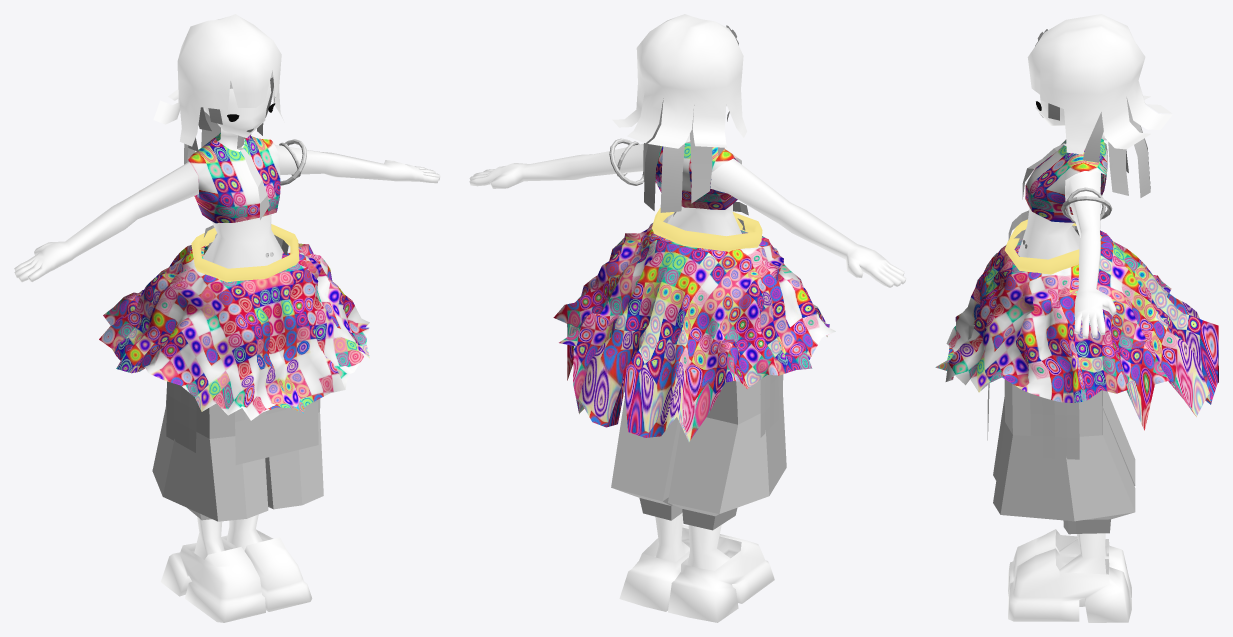
The model's file is character_template_4.glb.
3 renders of one model, left to right at view 1: azimuth 30°, elevation 25°; view 2: azimuth 150°, elevation 25°; view 3: azimuth 270°, elevation 25°, orthographic. The views are drawn at different scales.
Visible parts, largest first — view 1: Fabric.001, Body.001, Pants.001, HairOuter.002, Shoes.003, InnerCloth.001, Fabric.002, Belt.001, Fabric/003, HairInner.001, Tie; view 2: Fabric.001, Pants.001, Body.001, HairOuter.002, Shoes.003, HairInner.001, Belt.001, InnerCloth.001, Fabric/003; view 3: Fabric.001, Pants.001, HairOuter.002, Shoes.003, Body.001, InnerCloth.001, Fabric/003, HairInner.001, Belt.001.
Boxes of the visible parts, x1=… form: Fabric.001: x1=99, y1=243, x2=369, y2=420; Body.001: x1=14, y1=81, x2=440, y2=559; Pants.001: x1=152, y1=388, x2=323, y2=521; HairOuter.002: x1=153, y1=14, x2=284, y2=146; Shoes.003: x1=161, y1=529, x2=312, y2=622; InnerCloth.001: x1=188, y1=133, x2=280, y2=223; Fabric.002: x1=235, y1=400, x2=318, y2=464; Belt.001: x1=191, y1=224, x2=299, y2=282; Fabric/003: x1=166, y1=381, x2=196, y2=452; HairInner.001: x1=184, y1=70, x2=275, y2=164; Tie: x1=237, y1=135, x2=269, y2=219; Fabric.001: x1=553, y1=223, x2=835, y2=441; Pants.001: x1=611, y1=374, x2=786, y2=530; Body.001: x1=469, y1=104, x2=906, y2=570; HairOuter.002: x1=612, y1=14, x2=746, y2=148; Shoes.003: x1=619, y1=525, x2=774, y2=622; HairInner.001: x1=643, y1=98, x2=729, y2=212; Belt.001: x1=652, y1=208, x2=762, y2=251; InnerCloth.001: x1=655, y1=141, x2=741, y2=209; Fabric/003: x1=760, y1=375, x2=778, y2=437; Fabric.001: x1=935, y1=230, x2=1218, y2=430; Pants.001: x1=993, y1=256, x2=1135, y2=534; HairOuter.002: x1=1027, y1=14, x2=1172, y2=154; Shoes.003: x1=1008, y1=529, x2=1131, y2=622; Body.001: x1=1018, y1=95, x2=1116, y2=606; InnerCloth.001: x1=1025, y1=138, x2=1107, y2=222; Fabric/003: x1=1030, y1=393, x2=1079, y2=459; HairInner.001: x1=1048, y1=97, x2=1150, y2=197; Belt.001: x1=1004, y1=219, x2=1101, y2=274.
Bounding box in the file's own units: 13.7 × 17.52 × 7.81.
Materials: 7 (2 with a texture image).
